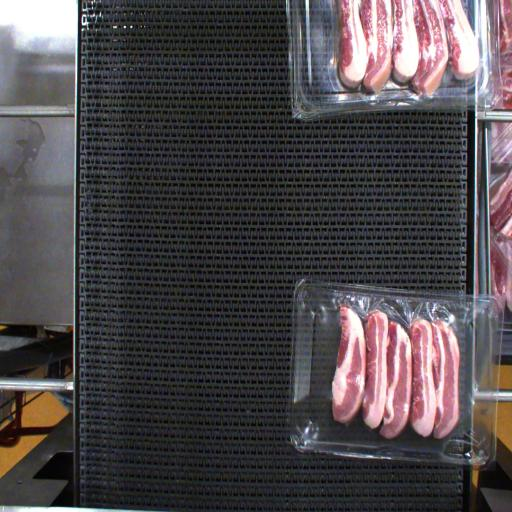unsealed: (321, 290, 471, 352)
